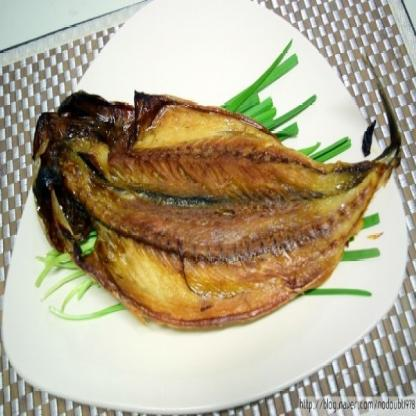Peixe: (0, 60, 409, 325)
